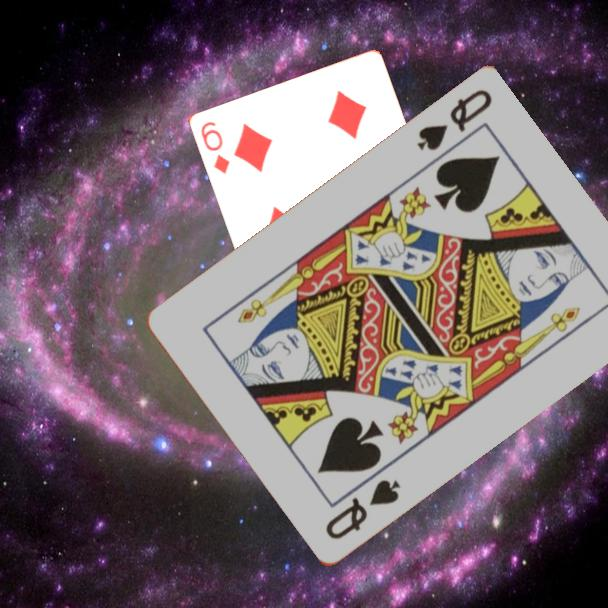d06: (197, 118, 232, 177)
s12: (413, 86, 496, 155), (321, 476, 404, 543)
